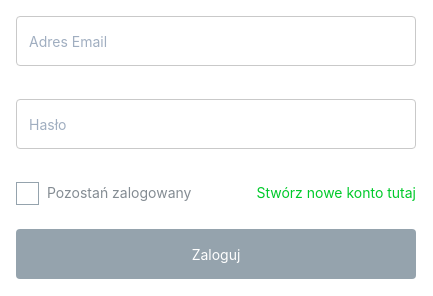
Scenario: Login › should enable submit button after correctly filling form
Check: the button with test id "submitWrapper" is disabled, box [16, 229, 416, 279]
Type "mockedEmail@gmail.com" into the field with placeholder "Adres Email" at (216, 41), box [16, 16, 416, 66]
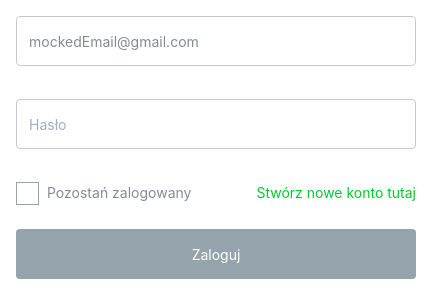
Type "mockPassword" into the password field with placeholder "Hasło" at (216, 124), box [16, 99, 416, 149]
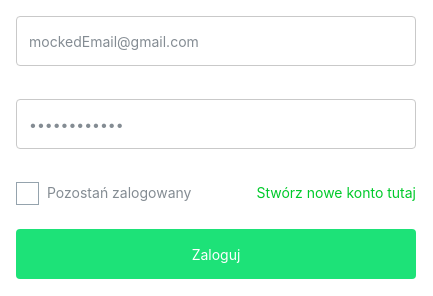
Check: the button with test id "submitWrapper" is enabled, box [16, 229, 416, 279]
